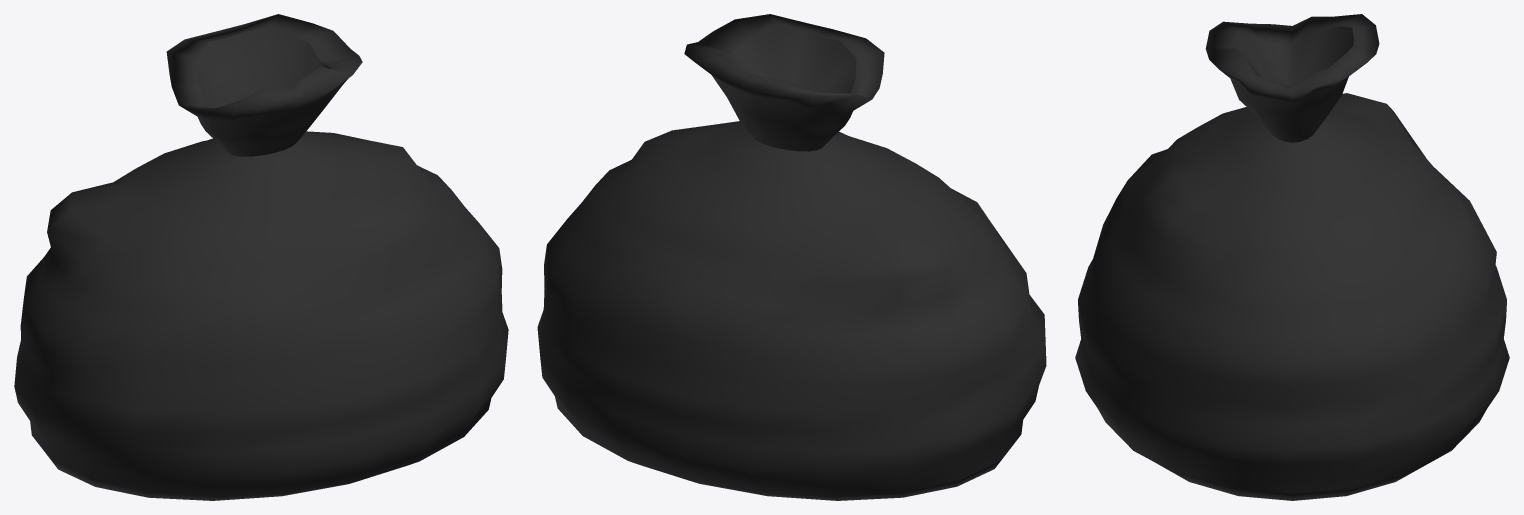
The model's file is garbagebag.fbx.
The picture shows the model from 3 angles, left to right: view 1: azimuth 30°, elevation 25°; view 2: azimuth 150°, elevation 25°; view 3: azimuth 270°, elevation 25°; orthographic projection.
Parts seen in each view (by area): view 1: pCylinder2; view 2: pCylinder2; view 3: pCylinder2.
Boxes of the visible parts, x1=… form: pCylinder2: x1=14, y1=14, x2=508, y2=500; pCylinder2: x1=537, y1=14, x2=1046, y2=500; pCylinder2: x1=1075, y1=14, x2=1509, y2=500.
Size of the model in its own units: 7.69 by 6.19 by 6.41.
1 material, 1 textured.
